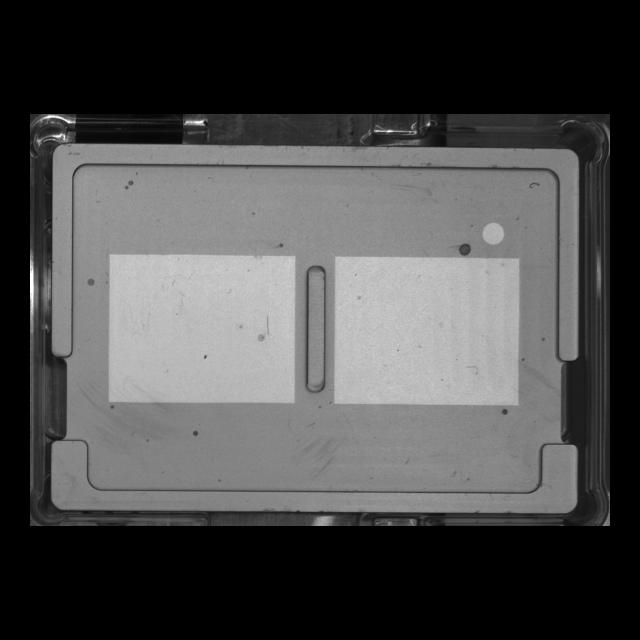door: (44, 428, 588, 522)
point: (478, 217, 508, 249)
